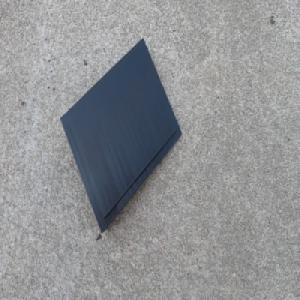PlasticPart: (59, 36, 182, 235)
